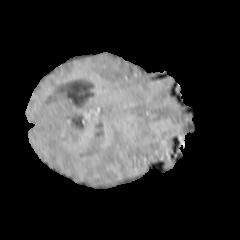glioma: (43, 115, 123, 170)
